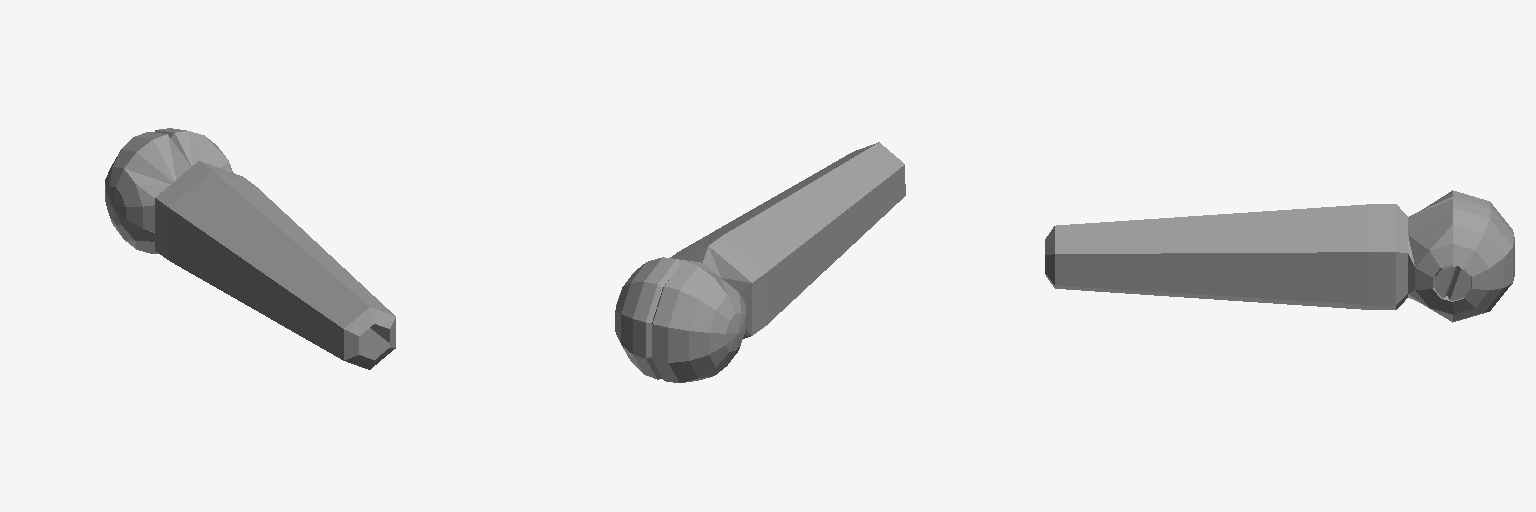
Rendered from calf.obj.
3 renders of one model, left to right at view 1: azimuth 30°, elevation 25°; view 2: azimuth 150°, elevation 25°; view 3: azimuth 270°, elevation 25°, orthographic.
Visible parts, largest first — view 1: Sphere; view 2: Sphere; view 3: Sphere.
Boxes of the visible parts, x1=… form: Sphere: x1=105, y1=128, x2=395, y2=369; Sphere: x1=615, y1=142, x2=905, y2=382; Sphere: x1=1045, y1=190, x2=1514, y2=322.
Bounding box in the file's own units: 3.43 × 3.4 × 12.26.